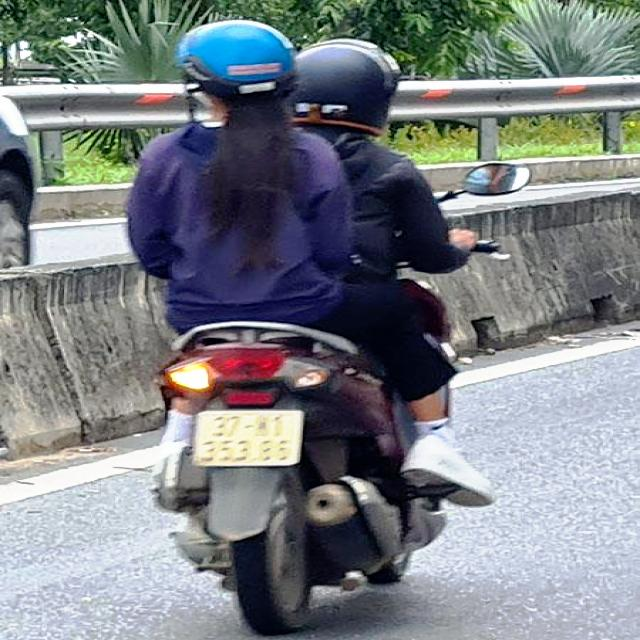license_plate: (191, 413, 302, 467)
